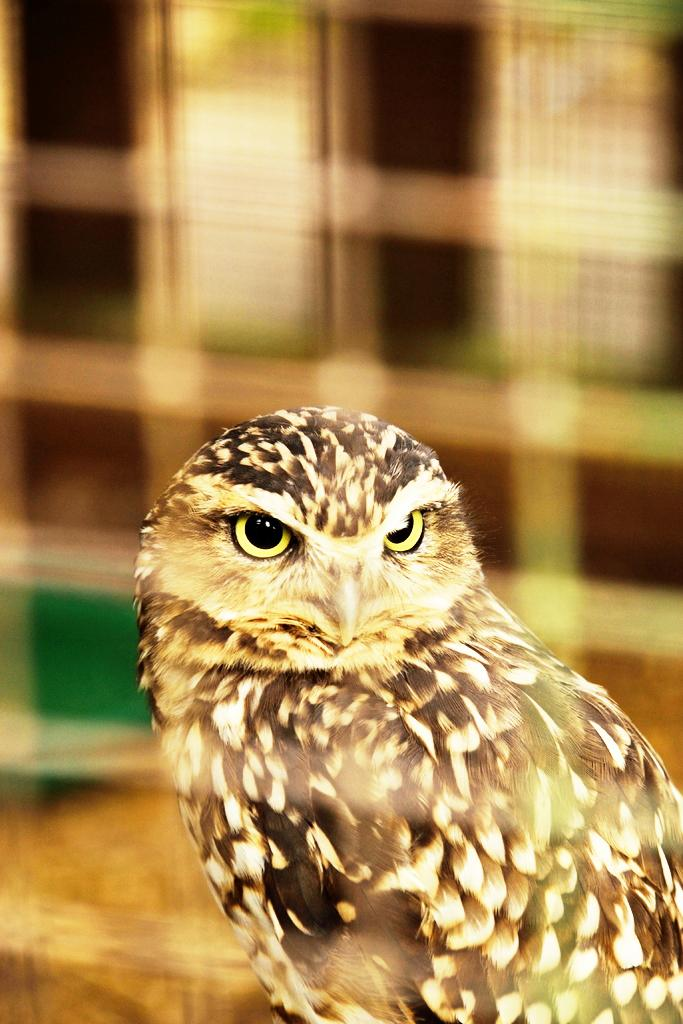Owl: (136, 402, 682, 1024)
